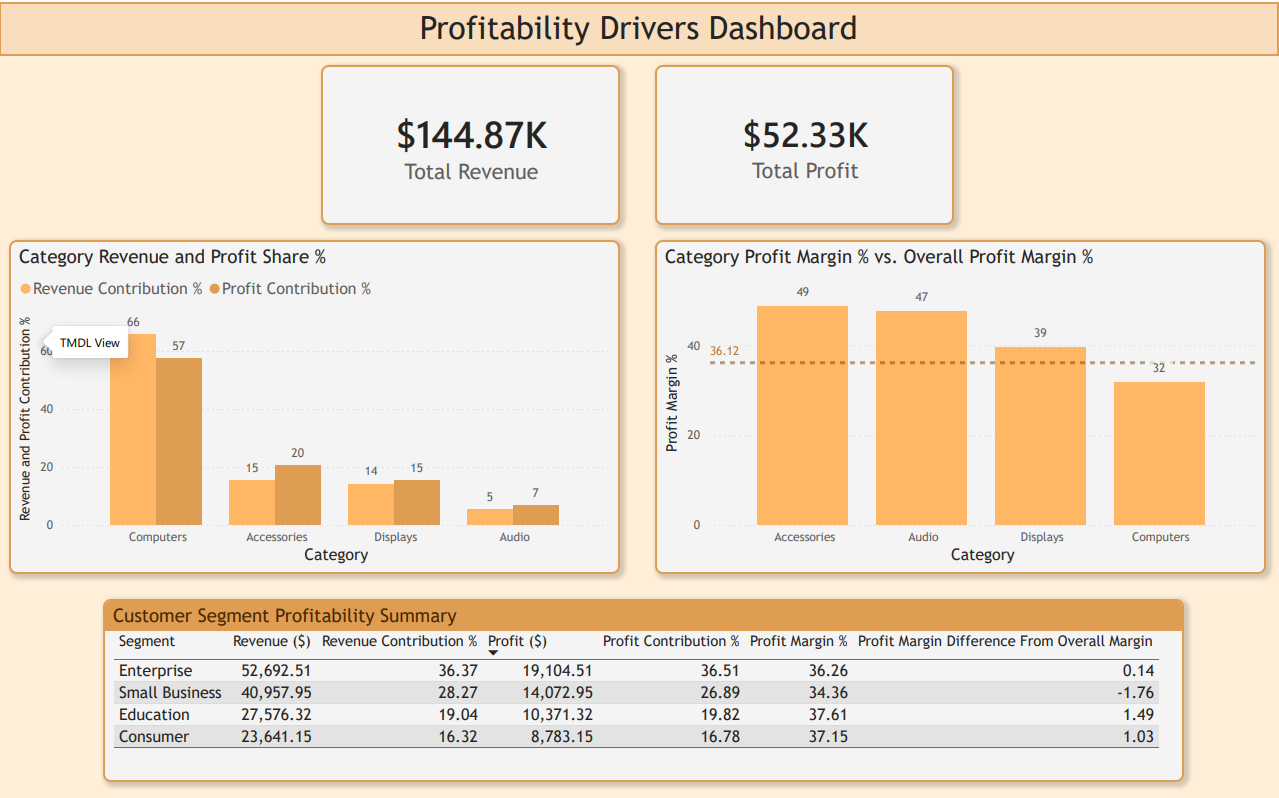

The dashboard page shown, as its layout file describes it:
{"tool":"powerbi","page":{"name":"Page 1","canvas":[1280,800],"ordinal":0},"visuals":[{"type":"cardVisual","fields":{"Data":["Sum(baseline_data.total_revenue)"]},"box":[322,63.4,299.5,160],"z":0},{"type":"cardVisual","fields":{"Data":["Sum(baseline_data.total_profit)"]},"box":[655.6,63.4,299.5,160],"z":1000},{"type":"clusteredColumnChart","title":"Category Revenue and Profit Share %","fields":{"Category":["category_profitability.category"],"Y":["Sum(category_profitability.revenue_contribution_pct)","Sum(category_profitability.profit_contribution_pct)"]},"box":[9.8,238,611.7,333.7],"z":2000},{"type":"lineClusteredColumnComboChart","title":"Category Profit Margin % vs. Overall Profit Margin %","fields":{"Category":["category_profitability.category"],"Y":["Sum(category_profitability.profit_margin_pct)"]},"box":[655.6,238,611.7,333.7],"z":3000},{"type":"tableEx","title":"Customer Segment Profitability Summary","fields":{"Values":["segment_profitability.segment","Sum(segment_profitability.segment_revenue)","Sum(segment_profitability.revenue_contribution_pct)","Sum(segment_profitability.segment_profit)","Sum(segment_profitability.profit_contribution_pct)","Sum(segment_profitability.profit_margin_pct)","Sum(segment_profitability.profit_margin_difference)"]},"box":[104.4,597,1080.8,183.3],"z":4000},{"type":"textbox","box":[0,0,1280,53.7],"z":5000}]}

Visuals, with their boxes in screenshot pixels (x1, y1, x2, y2), scaled from the page's 1280x800 canvas onto the 1279x798 screenshot:
cardVisual - Sum(baseline_data.total_revenue): {"left": 322, "top": 63, "right": 621, "bottom": 223}
cardVisual - Sum(baseline_data.total_profit): {"left": 655, "top": 63, "right": 954, "bottom": 223}
"Category Revenue and Profit Share %" clusteredColumnChart: {"left": 10, "top": 237, "right": 621, "bottom": 570}
"Category Profit Margin % vs. Overall Profit Margin %" lineClusteredColumnComboChart: {"left": 655, "top": 237, "right": 1266, "bottom": 570}
"Customer Segment Profitability Summary" tableEx: {"left": 104, "top": 596, "right": 1184, "bottom": 778}
textbox: {"left": 0, "top": 0, "right": 1278, "bottom": 54}
